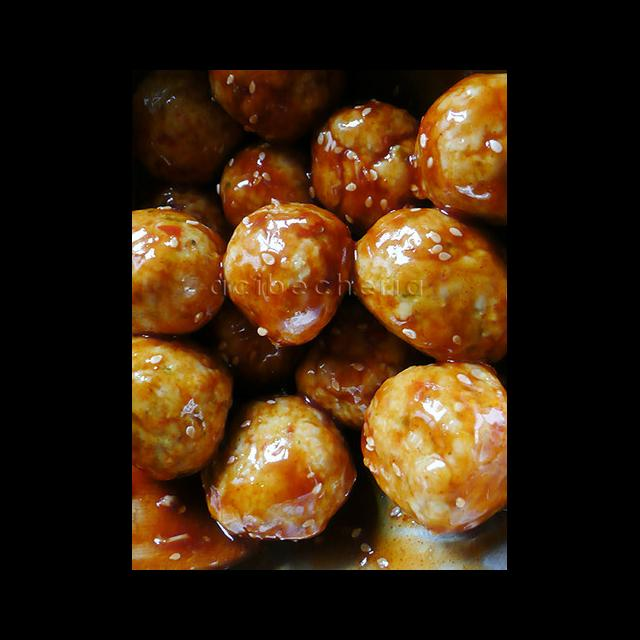food_waste: (187, 198, 471, 449)
